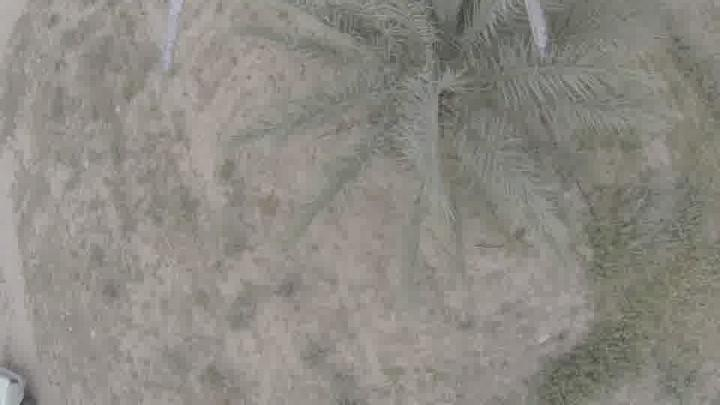Date-Palm-Crown: (318, 0, 570, 198)
